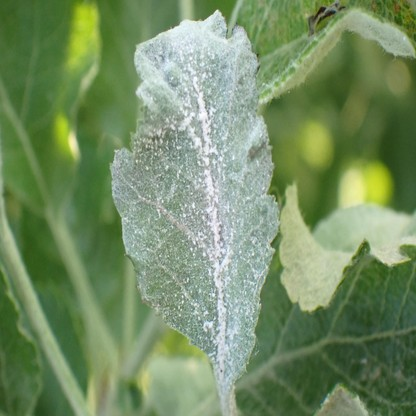powder: (108, 9, 280, 394), (368, 338, 414, 409)
